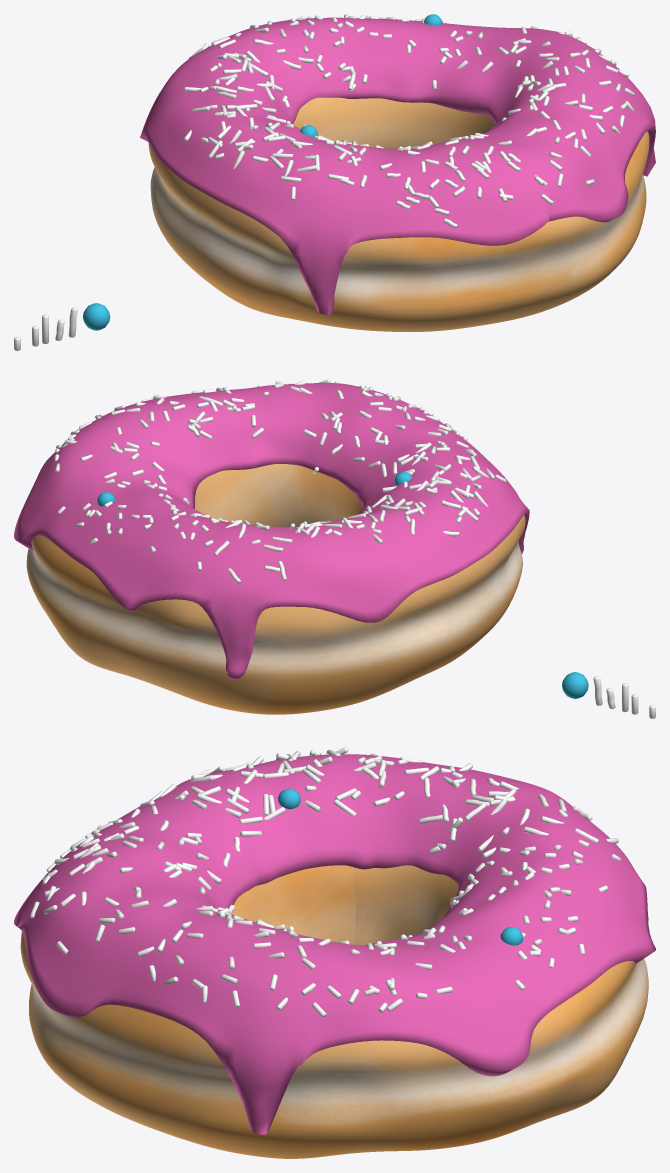
File: ponchikM.glb
3 views of the same model, one above another, from view 1: azimuth 30°, elevation 25°; view 2: azimuth 150°, elevation 25°; view 3: azimuth 270°, elevation 25° (orthographic). The views are drawn at different scales.
Visible parts, largest first — view 1: icing, donut, Sphere; view 2: icing, donut, Sphere; view 3: icing, donut.
Boxes of the visible parts, box(x1,y1,x2,y2) form: icing: box(140, 17, 655, 314); donut: box(148, 97, 649, 331); Sphere: box(83, 303, 110, 330); icing: box(14, 383, 529, 679); donut: box(26, 464, 525, 714); Sphere: box(562, 672, 588, 698); icing: box(14, 754, 655, 1134); donut: box(20, 865, 648, 1158).
Size of what is drawn, in the model's own units: 0.2054 by 0.0602 by 0.1507.
Materials: 4 (1 with a texture image).
